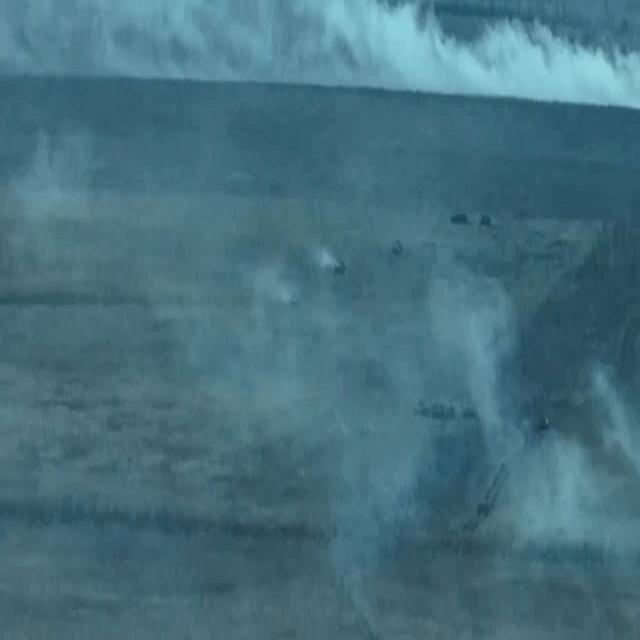AIFV: (393, 239, 405, 258), (539, 417, 551, 434), (334, 260, 346, 273), (290, 294, 300, 308)
APC: (415, 401, 430, 420), (463, 408, 476, 424), (447, 405, 458, 423)
Destroyed: (451, 213, 471, 226), (480, 213, 493, 230)
MBT: (432, 401, 446, 423)
